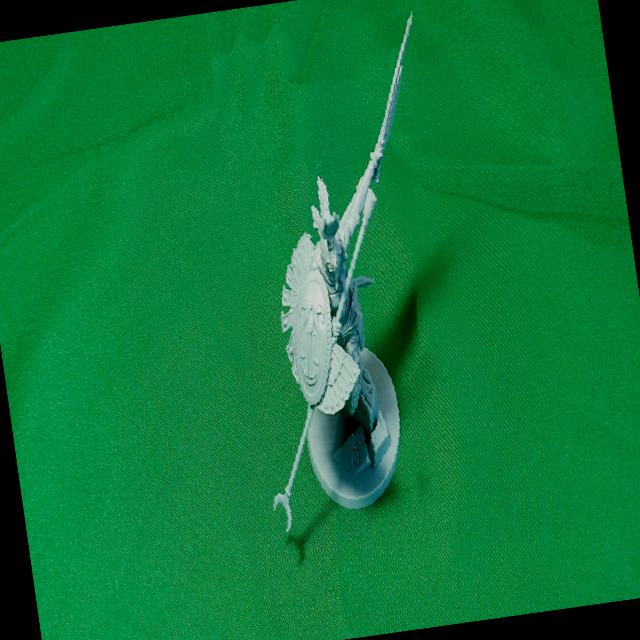isis: (185, 0, 479, 640)
